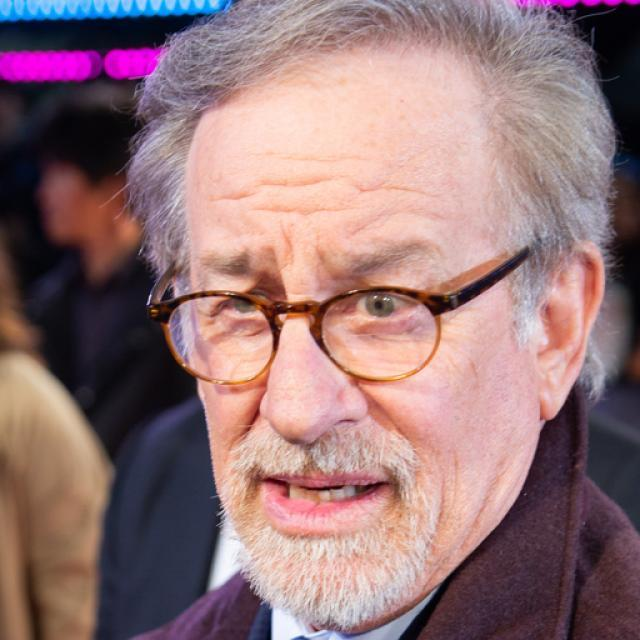fear: (180, 47, 538, 620)
